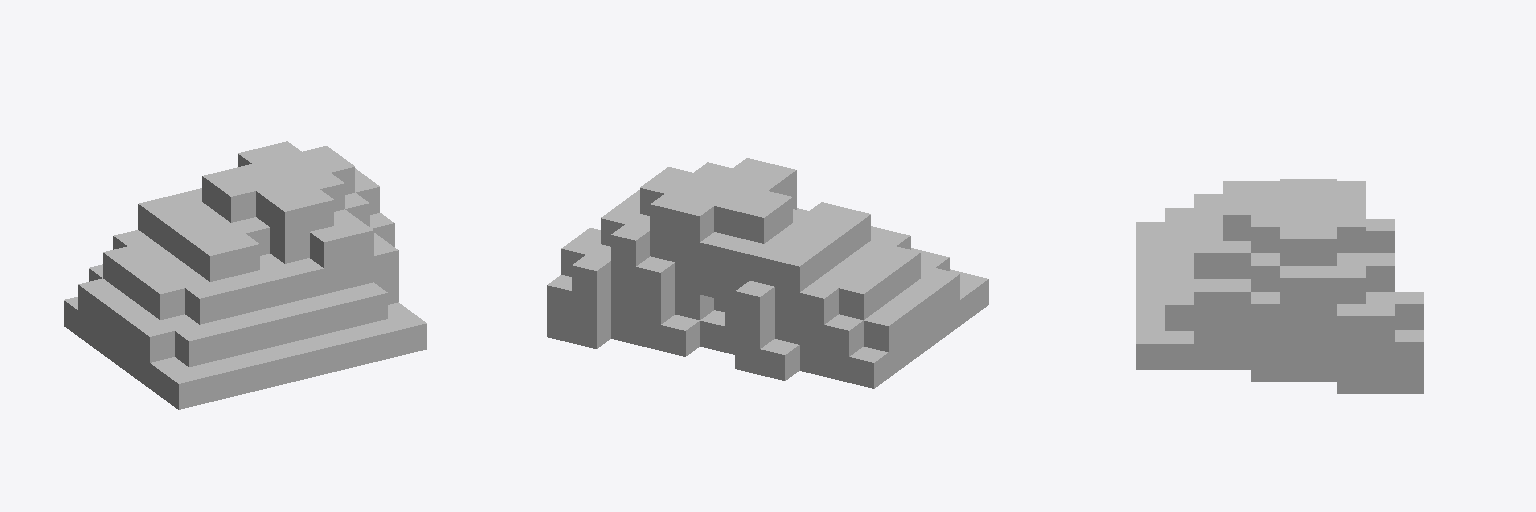
The model's file is kamień 2.obj.
3 renders of one model, left to right at view 1: azimuth 30°, elevation 25°; view 2: azimuth 150°, elevation 25°; view 3: azimuth 270°, elevation 25°, orthographic.
Parts seen in each view (by area): view 1: object 1; view 2: object 1; view 3: object 1.
Part boxes in pixels (x1,y1,x2,y2): object 1: (64,141,426,409); object 1: (547,158,988,388); object 1: (1136,179,1423,393).
Size of the model in its own units: 2.4 by 1 by 2.